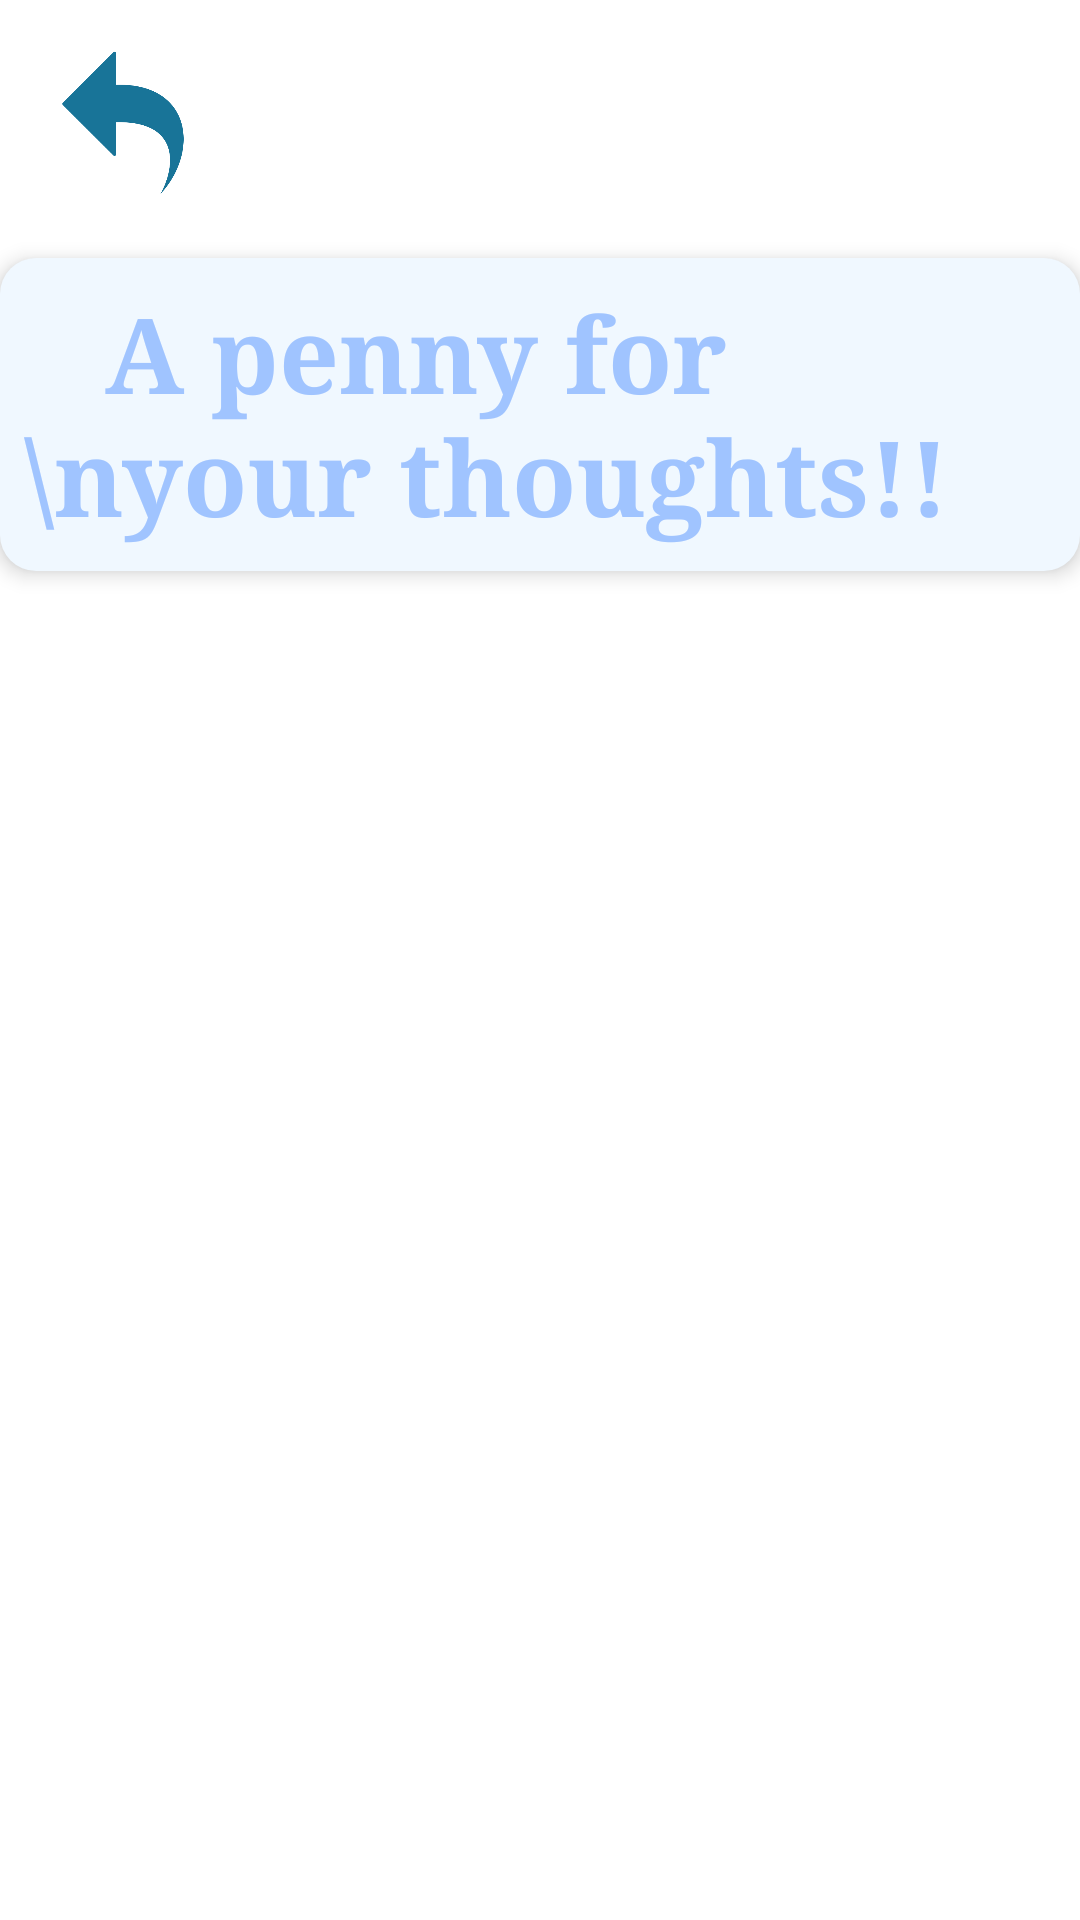

Named icons in this screenshot (1080*1920) and their bounding boxes, (x1, y1, x2, y2):
Back: (62, 52, 184, 194)
